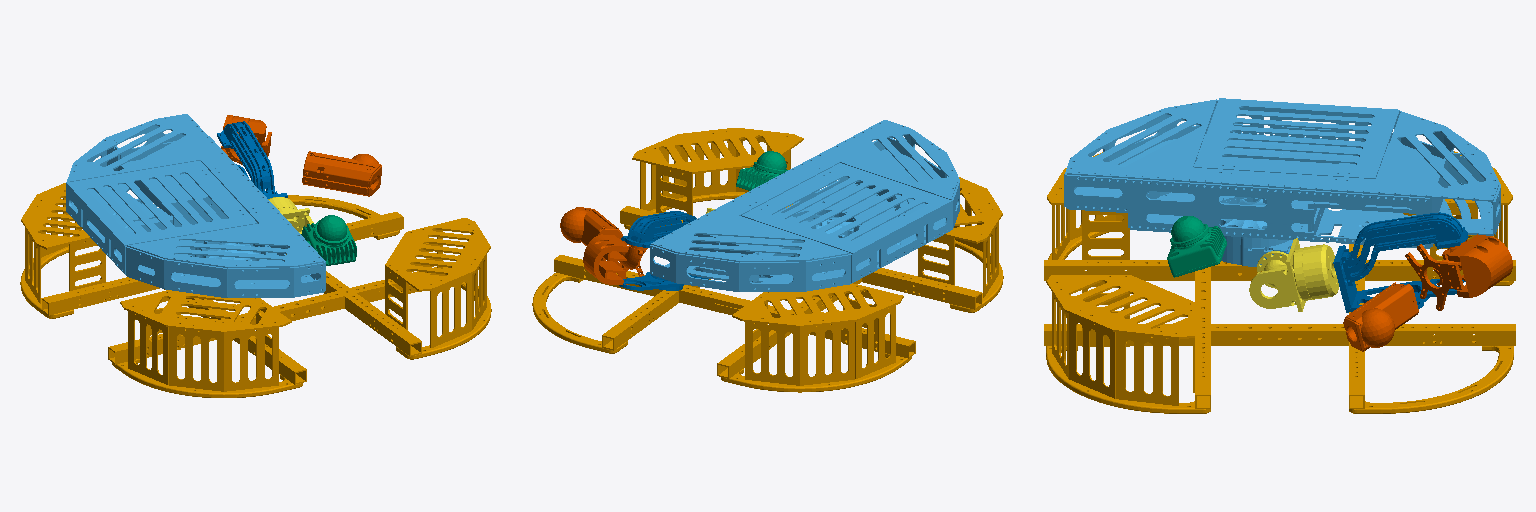
The robot description file, URDF, robot "sentry":
<?xml version="1.0" encoding="utf-8"?>
<robot name="sentry">

  <link name="base">
    <visual>
      <origin xyz="-1.288000 0.103120 0.094410" rpy="1.570796 -0.000000 1.570796"/>
      <geometry>
        <mesh filename="mesh/base.stl" scale="0.001 0.001 0.001"/>
      </geometry>
    </visual>
    <collision>
      <origin xyz="-1.288000 0.103120 0.094410" rpy="1.570796 -0.000000 1.570796"/>
      <geometry>
        <mesh filename="mesh/base.stl" scale="0.001 0.001 0.001"/>
      </geometry>
    </collision>
    <inertial>
      <origin xyz="-0.004137 -0.004036 0.103555" rpy="0 0 0"/>
      <mass value="2.380349"/>
      <inertia ixx="8.547636288e-02" ixy="1.498436180e-03" ixz="8.028297299e-05" iyy="8.554787089e-02" iyz="7.119581530e-05" izz="1.637898107e-01"/>
    </inertial>
  </link>

  <link name="link1_big_yaw">
    <visual>
      <origin xyz="-1.288000 0.103120 0.004310" rpy="1.570796 -0.000000 1.570796"/>
      <geometry>
        <mesh filename="mesh/link1_big_yaw.stl" scale="0.001 0.001 0.001"/>
      </geometry>
    </visual>
    <collision>
      <origin xyz="-1.288000 0.103120 0.004310" rpy="1.570796 -0.000000 1.570796"/>
      <geometry>
        <mesh filename="mesh/link1_big_yaw.stl" scale="0.001 0.001 0.001"/>
      </geometry>
    </collision>
    <inertial>
      <origin xyz="-0.094538 0.007156 0.099200" rpy="0 0 0"/>
      <mass value="2.114516"/>
      <inertia ixx="3.660210260e-02" ixy="-2.561411578e-03" ixz="1.111655700e-03" iyy="1.343427679e-02" iyz="-1.556263129e-03" izz="4.512037122e-02"/>
    </inertial>
  </link>

  <link name="link2_laser">
    <visual>
      <origin xyz="-1.288000 0.103120 0.004310" rpy="1.570796 -0.000000 1.570796"/>
      <geometry>
        <mesh filename="mesh/link2_laser.stl" scale="0.001 0.001 0.001"/>
      </geometry>
    </visual>
    <collision>
      <origin xyz="-1.288000 0.103120 0.004310" rpy="1.570796 -0.000000 1.570796"/>
      <geometry>
        <mesh filename="mesh/link2_laser.stl" scale="0.001 0.001 0.001"/>
      </geometry>
    </collision>
    <inertial>
      <origin xyz="0.061051 -0.107827 0.097752" rpy="0 0 0"/>
      <mass value="0.265000"/>
      <inertia ixx="3.566995800e+02" ixy="7.026011172e+00" ixz="-1.303453954e+01" iyy="4.021900212e+02" iyz="-8.635832677e+01" izz="5.841296041e+02"/>
    </inertial>
  </link>

  <link name="link3_roll">
    <visual>
      <origin xyz="-1.318316 0.107696 -0.043840" rpy="1.570796 -0.000000 1.570796"/>
      <geometry>
        <mesh filename="mesh/link3_roll.stl" scale="0.001 0.001 0.001"/>
      </geometry>
    </visual>
    <collision>
      <origin xyz="-1.318316 0.107696 -0.043840" rpy="1.570796 -0.000000 1.570796"/>
      <geometry>
        <mesh filename="mesh/link3_roll.stl" scale="0.001 0.001 0.001"/>
      </geometry>
    </collision>
    <inertial>
      <origin xyz="0.033477 0.044010 0.011655" rpy="0 0 0"/>
      <mass value="0.565855"/>
      <inertia ixx="3.594307180e-04" ixy="1.702787833e-05" ixz="3.432612484e-06" iyy="3.326011582e-04" iyz="-9.974993321e-06" izz="3.753457909e-04"/>
    </inertial>
  </link>

  <link name="link4_small_yaw">
    <visual>
      <origin xyz="-1.350438 0.065737 -0.054959" rpy="1.570796 -0.000000 1.570796"/>
      <geometry>
        <mesh filename="mesh/link4_small_yaw.stl" scale="0.001 0.001 0.001"/>
      </geometry>
    </visual>
    <collision>
      <origin xyz="-1.350438 0.065737 -0.054959" rpy="1.570796 -0.000000 1.570796"/>
      <geometry>
        <mesh filename="mesh/link4_small_yaw.stl" scale="0.001 0.001 0.001"/>
      </geometry>
    </collision>
    <inertial>
      <origin xyz="0.014120 0.093888 0.010979" rpy="0 0 0"/>
      <mass value="0.197313"/>
      <inertia ixx="7.601535559e-04" ixy="-6.611703979e-05" ixz="-1.892058788e-05" iyy="3.184682195e-04" iyz="-1.274130733e-04" izz="5.386266288e-04"/>
    </inertial>
  </link>

  <link name="link5_pitch">
    <visual>
      <origin xyz="-1.379178 -0.124677 -0.059059" rpy="1.570796 -0.000000 1.570796"/>
      <geometry>
        <mesh filename="mesh/link5_pitch.stl" scale="0.001 0.001 0.001"/>
      </geometry>
    </visual>
    <collision>
      <origin xyz="-1.379178 -0.124677 -0.059059" rpy="1.570796 -0.000000 1.570796"/>
      <geometry>
        <mesh filename="mesh/link5_pitch.stl" scale="0.001 0.001 0.001"/>
      </geometry>
    </collision>
    <inertial>
      <origin xyz="0.091807 -0.059669 0.016726" rpy="0 0 0"/>
      <mass value="0.272199"/>
      <inertia ixx="1.077021334e-03" ixy="8.115376634e-04" ixz="1.823039633e-04" iyy="1.006964014e-03" iyz="-2.018662072e-04" izz="1.873464277e-03"/>
    </inertial>
  </link>

  <joint name="joint1_big_yaw" type="revolute">
    <origin xyz="-0.000000 -0.000000 0.090100" rpy="0 0 0"/>
    <parent link="base"/>
    <child link="link1_big_yaw"/>
    <axis xyz="0.000000 0.000000 -1.000000"/>
    <limit lower="-3.1416" upper="3.1416" effort="10" velocity="10"/>
  </joint>

  <joint name="joint_laser" type="fixed">
    <origin xyz="0.000000 0.000000 0.000000" rpy="0 0 0"/>
    <parent link="link1_big_yaw"/>
    <child link="link2_laser"/>
  </joint>

  <joint name="joint2_roll" type="revolute">
    <origin xyz="0.030316 -0.004576 0.048150" rpy="0 0 0"/>
    <parent link="link1_big_yaw"/>
    <child link="link3_roll"/>
    <axis xyz="-0.988800 0.149244 -0.000000"/>
    <limit lower="-3.1416" upper="3.1416" effort="10" velocity="10"/>
  </joint>

  <joint name="joint3_small_yaw" type="revolute">
    <origin xyz="0.032122 0.041959 0.011120" rpy="0 0 0"/>
    <parent link="link3_roll"/>
    <child link="link4_small_yaw"/>
    <axis xyz="0.145115 0.961441 0.233607"/>
    <limit lower="-3.1416" upper="3.1416" effort="10" velocity="10"/>
  </joint>

  <joint name="joint4_pitch" type="revolute">
    <origin xyz="0.028740 0.190414 0.004099" rpy="0 0 0"/>
    <parent link="link4_small_yaw"/>
    <child link="link5_pitch"/>
    <axis xyz="0.034865 0.230991 -0.972331"/>
    <limit lower="-3.1416" upper="3.1416" effort="10" velocity="10"/>
  </joint>

  <link name="ref2"/>

  <joint name="joint_ref2" type="fixed">
    <origin xyz="-0.000000 0.000000 0.064900" rpy="1.570796 -0.000000 -0.000000"/>
    <parent link="base"/>
    <child link="ref2"/>
  </joint>

  <link name="ref_lidar"/>

  <joint name="joint_ref_lidar" type="fixed">
    <origin xyz="0.060280 -0.114280 0.113860" rpy="0.383972 -0.000000 -0.000000"/>
    <parent link="link2_laser"/>
    <child link="ref_lidar"/>
  </joint>

</robot>

--- Facts derived from the render (not from the file) ---
The picture shows the robot from 3 angles, left to right: view 1: azimuth 30°, elevation 25°; view 2: azimuth 150°, elevation 25°; view 3: azimuth 270°, elevation 25°; orthographic projection.
Model sentry with 8 links and 7 joints (4 revolute, 3 fixed), rooted at base, posed all joints at 0.
Links seen in each view (by area): view 1: base, link1_big_yaw, link5_pitch, link4_small_yaw, link2_laser, link3_roll; view 2: base, link1_big_yaw, link5_pitch, link4_small_yaw, link2_laser; view 3: link1_big_yaw, base, link5_pitch, link4_small_yaw, link3_roll, link2_laser.
Boxes of the visible links, x1,y1,x2,y2 form: base: (20,183,491,397); link1_big_yaw: (66,114,325,297); link5_pitch: (220,115,381,196); link4_small_yaw: (217,121,287,198); link2_laser: (301,215,356,265); link3_roll: (268,197,313,254); base: (532,128,1003,392); link1_big_yaw: (650,120,959,291); link5_pitch: (560,207,647,284); link4_small_yaw: (619,211,708,290); link2_laser: (736,151,787,190); link1_big_yaw: (1064,98,1500,266); base: (1044,151,1515,413); link5_pitch: (1343,234,1512,351); link4_small_yaw: (1333,212,1468,312); link3_roll: (1249,238,1338,311); link2_laser: (1167,216,1226,277).
Bounding box of the posed robot: 0.59 × 0.59 × 0.178 m (x, y, z).
6 mesh visuals loaded from 6 distinct referenced files (6 binary STL).
